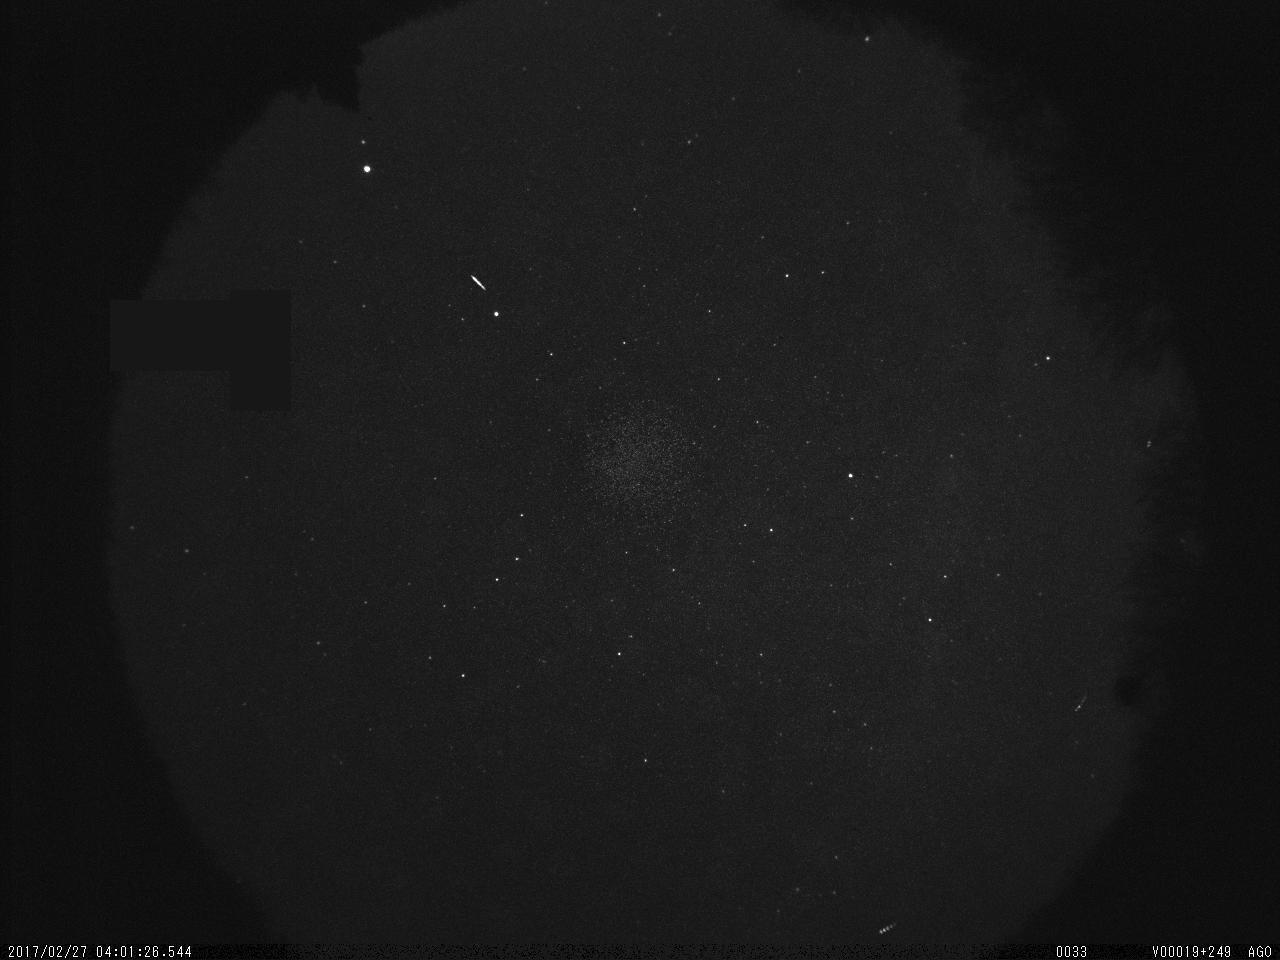meteor: (462, 271, 497, 295)
